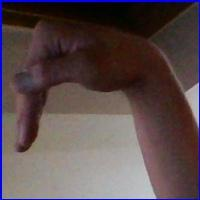A: (8, 17, 165, 161)
